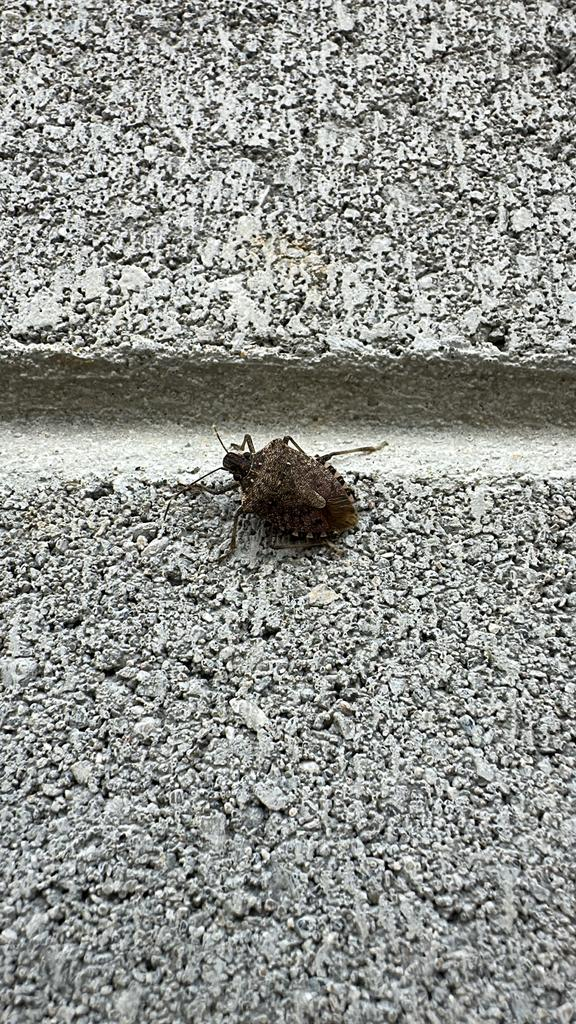stink_bugs: (142, 398, 426, 593)
